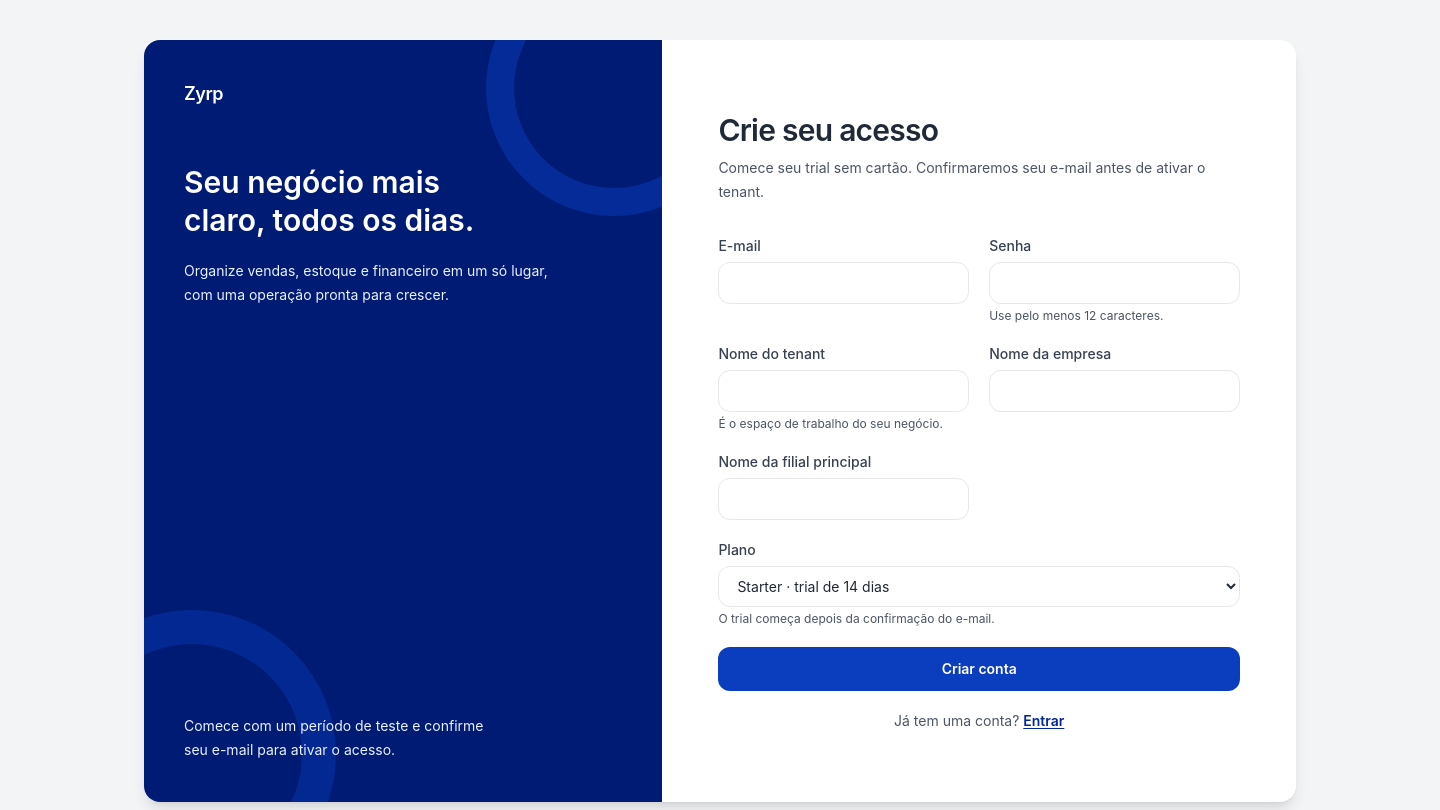
Test case: cadastro público › bloqueia senha menor que 12 caracteres e mantém a tela no cadastro
Type "owner@example.com" into the field labelled "E-mail".
click(844, 282); type("owner@example.com")  # box [718, 262, 969, 304]
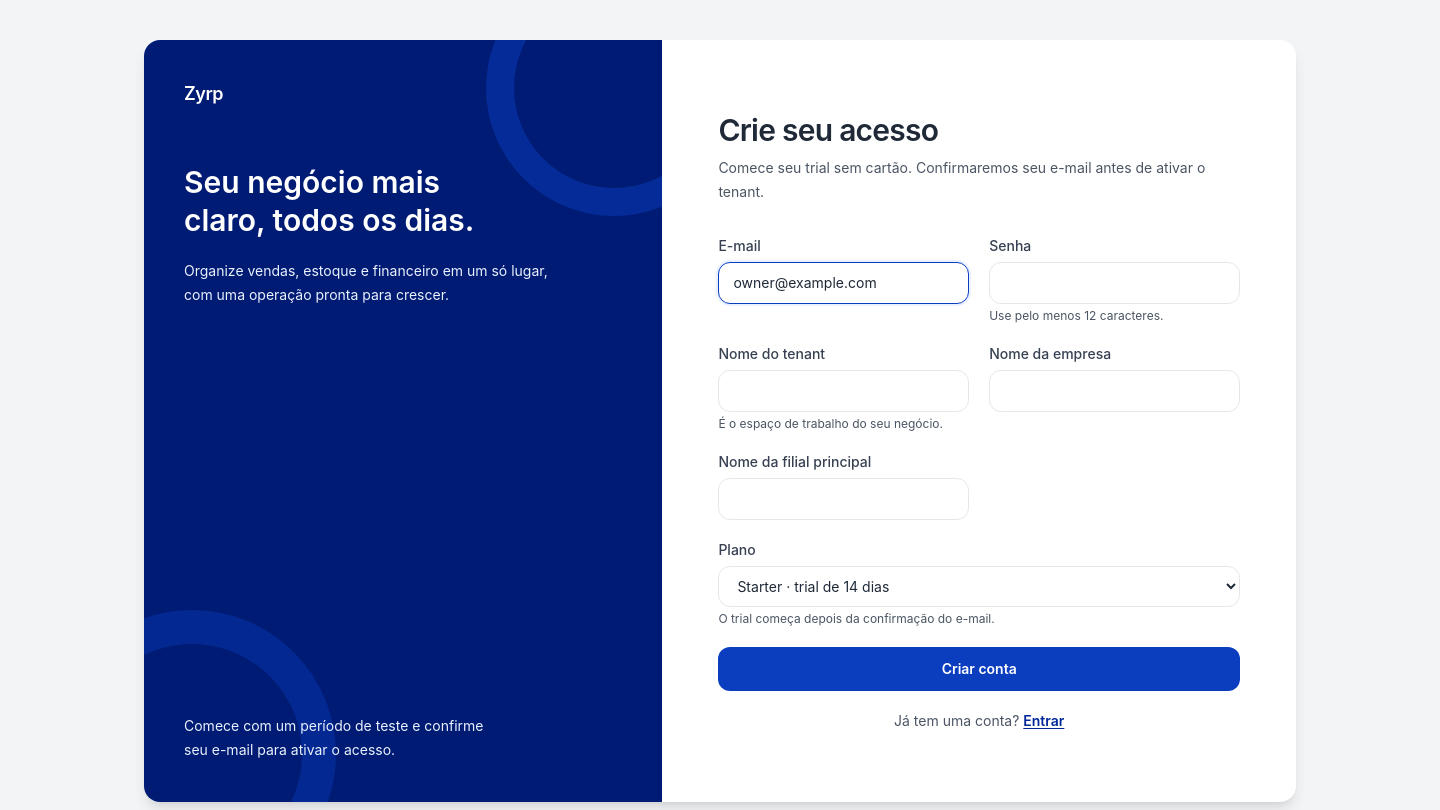
Type "curta" into the password field labelled "Senha".
click(1115, 282); type("curta")  # box [989, 262, 1240, 304]
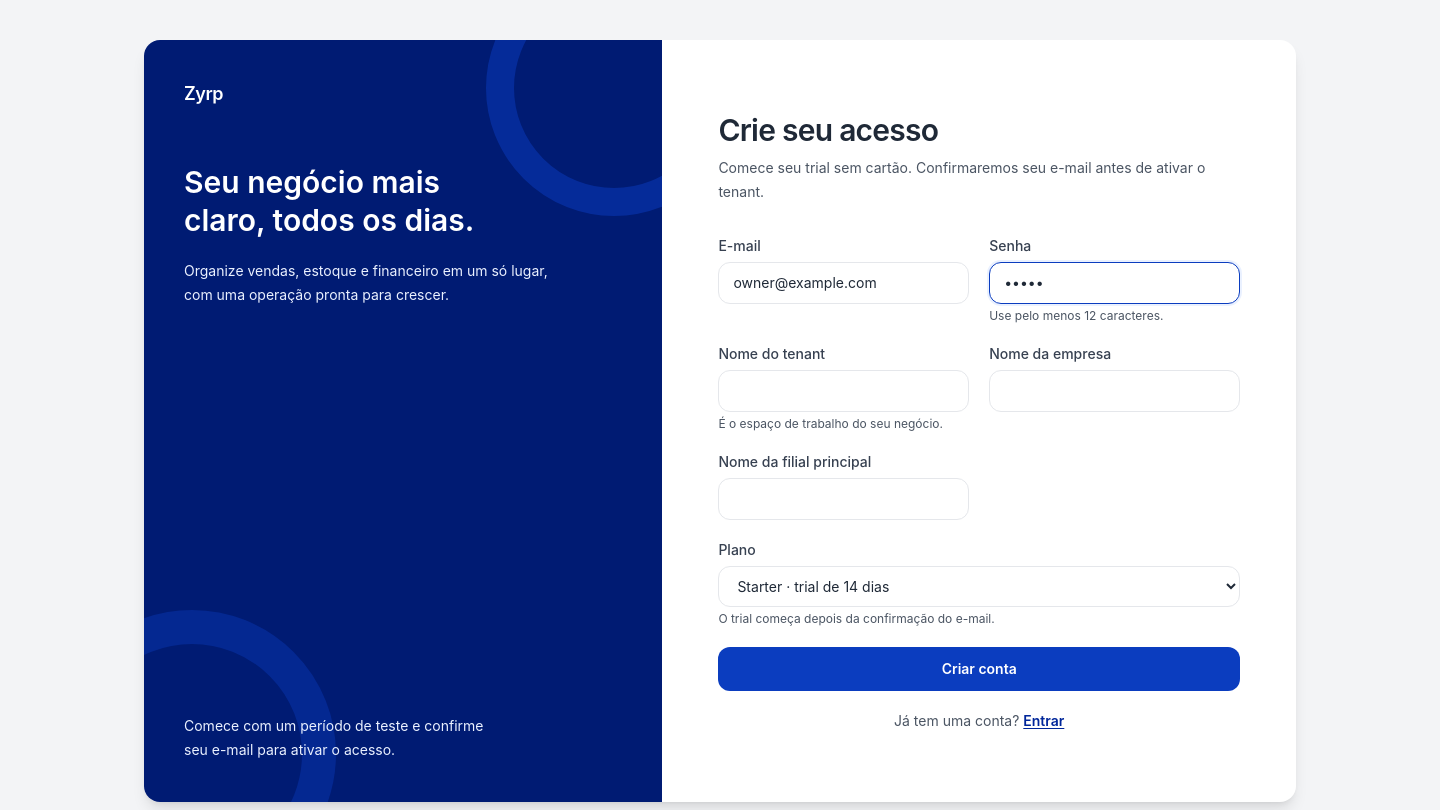
Click the button "Criar conta".
click(979, 668)  # box [718, 646, 1240, 690]
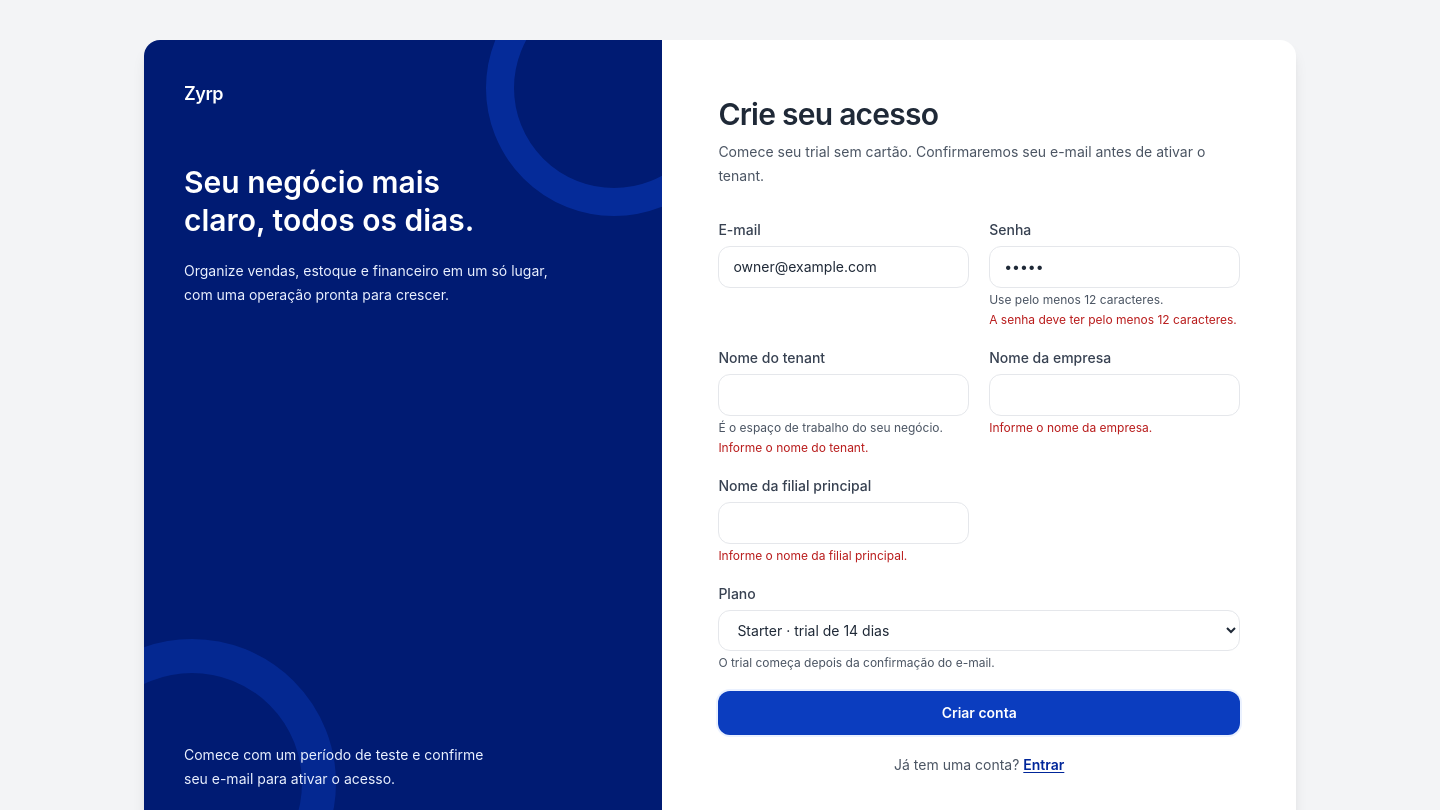
Check: the heading "Crie seu acesso" is shown, box [718, 96, 938, 132]
Check: the text "A senha deve ter pelo menos 12 caracteres." is shown, box [989, 312, 1240, 328]
